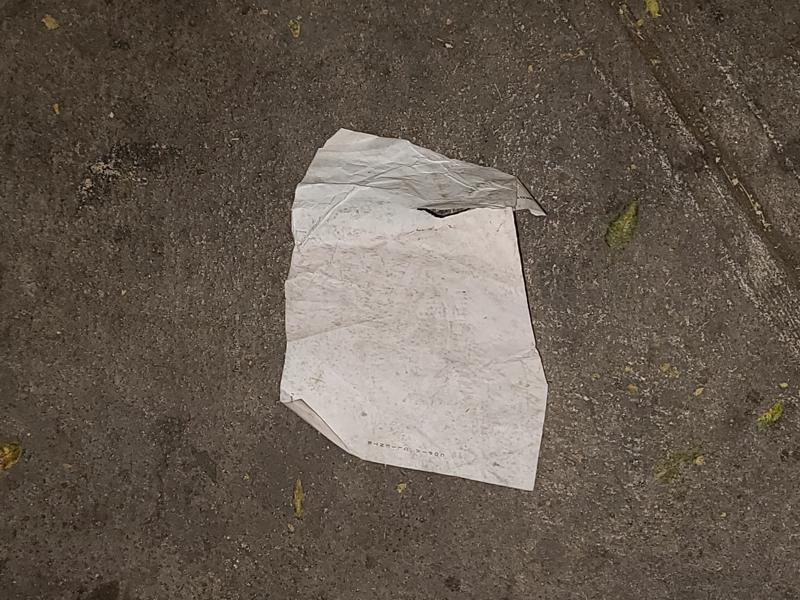papel: (279, 129, 548, 492)
